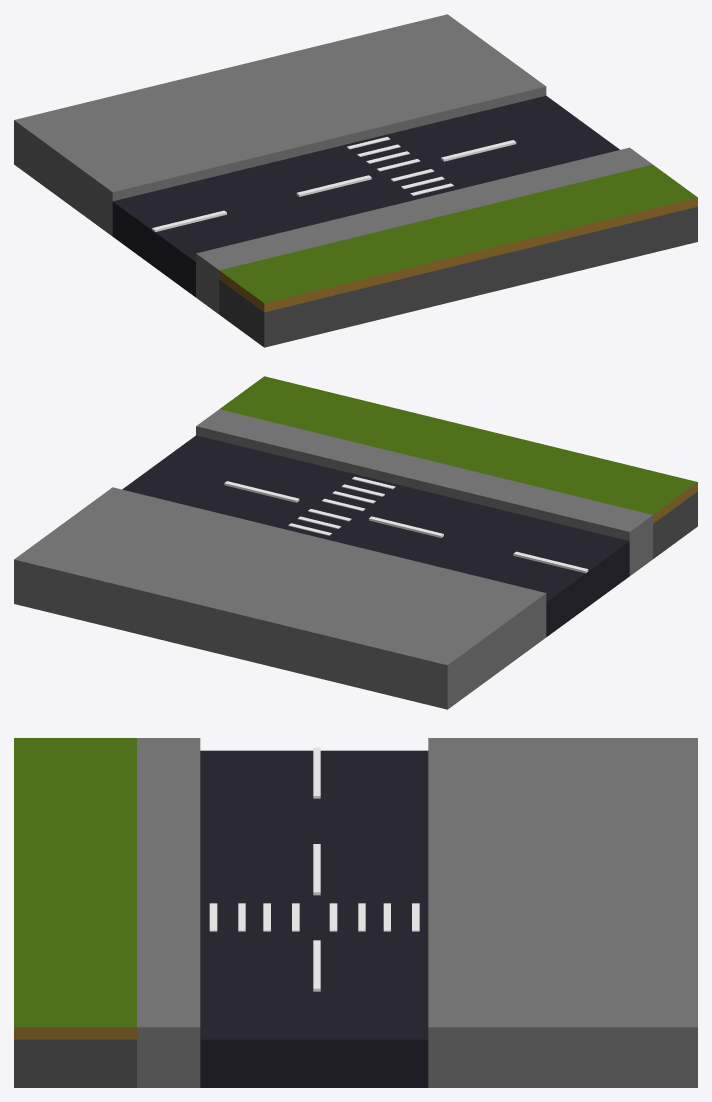
The model's file is Road.fbx.
3 views of the same model, one above another, from view 1: azimuth 30°, elevation 25°; view 2: azimuth 150°, elevation 25°; view 3: azimuth 270°, elevation 25° (orthographic). The views are drawn at different scales.
Parts seen in each view (by area): view 1: Road; view 2: Road; view 3: Road.
Part boxes in pixels (x1,y1,x2,y2): Road: [14, 14, 697, 347]; Road: [14, 376, 697, 709]; Road: [14, 738, 697, 1087].
Bounding box in the file's own units: 1192 × 117 × 1192.
